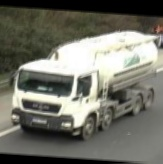truck: (7, 23, 163, 145)
